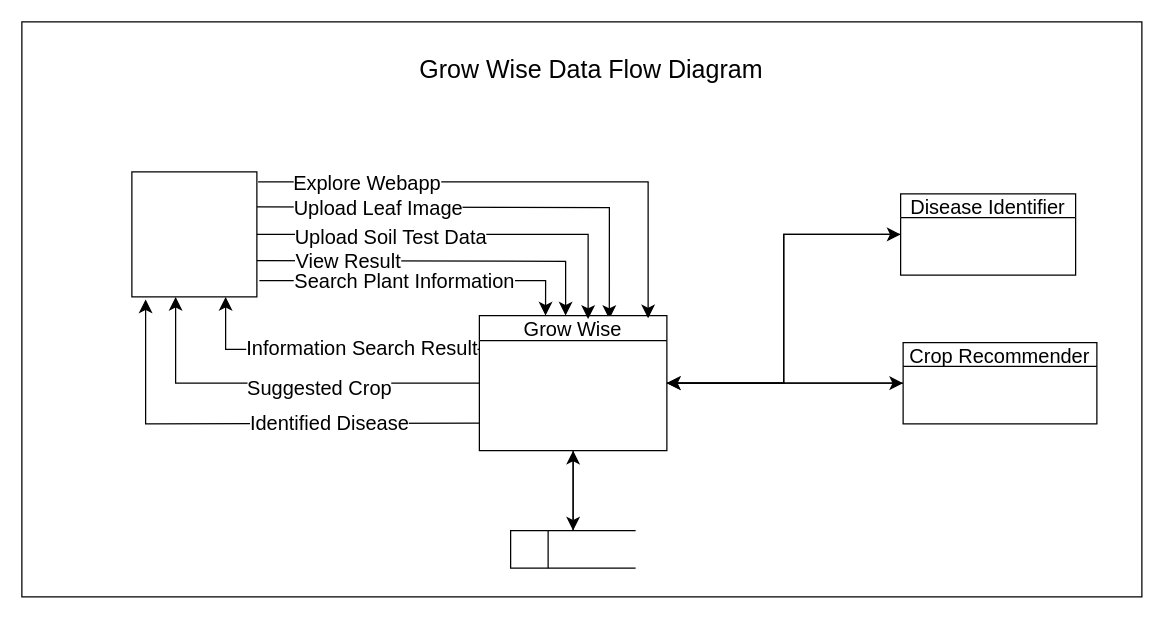
The diagram is 1164 pixels wide and 619 high, and some of its shapes have lost their labels. The centre of each missing label's shape, as x and y in pixels:
"DB" belongs at (x=572, y=548).
"User" belongs at (x=194, y=234).
